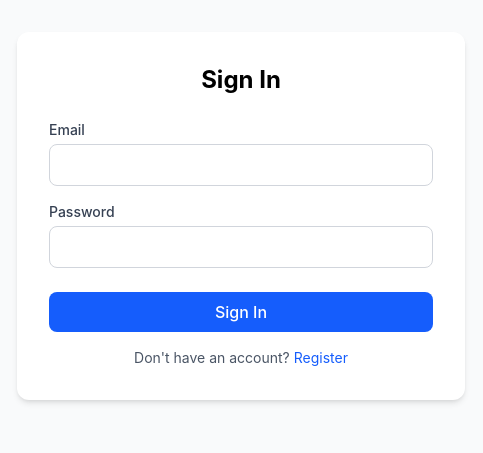
LoginPage › shows error message on failed login
Type "test@example.com" into the field labelled "Email".
click(241, 165); type("test@example.com")  # box 49,144 -> 433,186
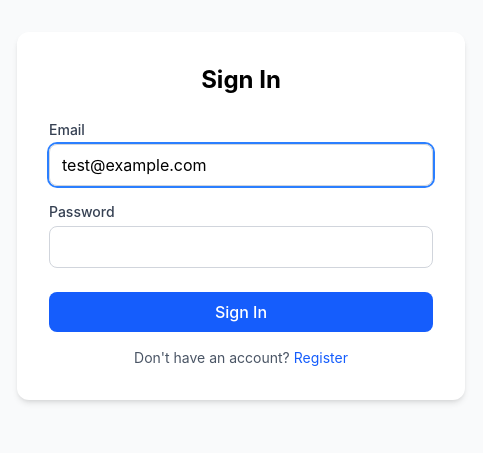
Type "wrong" into the password field labelled "Password".
click(241, 247); type("wrong")  # box 49,226 -> 433,268
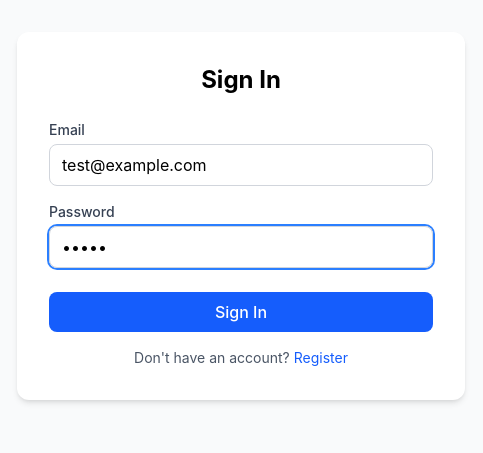
Click the button "Sign In".
click(241, 312)  # box 49,292 -> 433,332
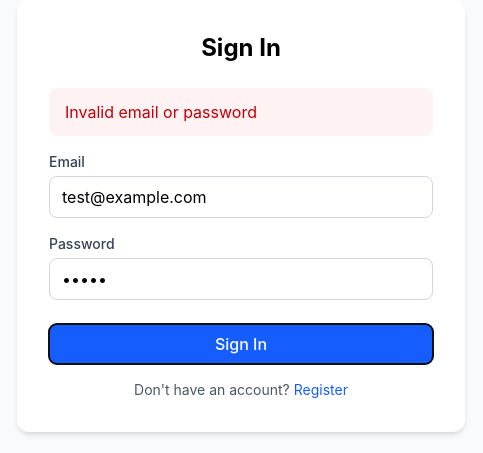
Result: the text "Invalid email or password" is shown at 49,88 -> 433,136
